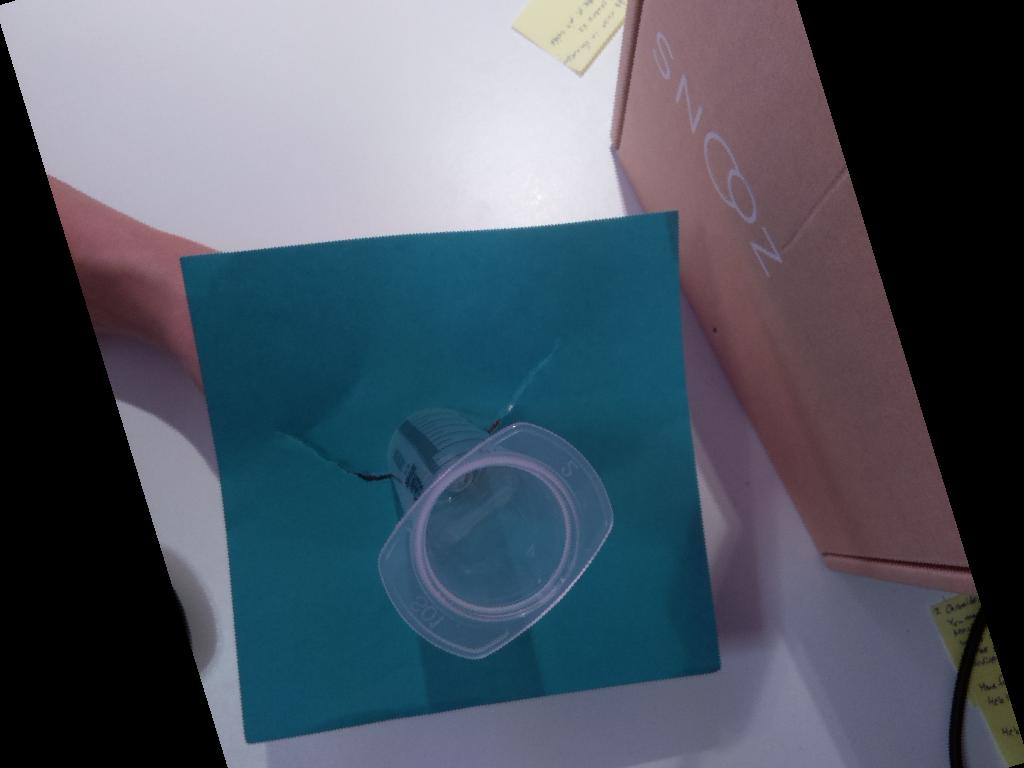clean: (376, 421, 616, 660)
